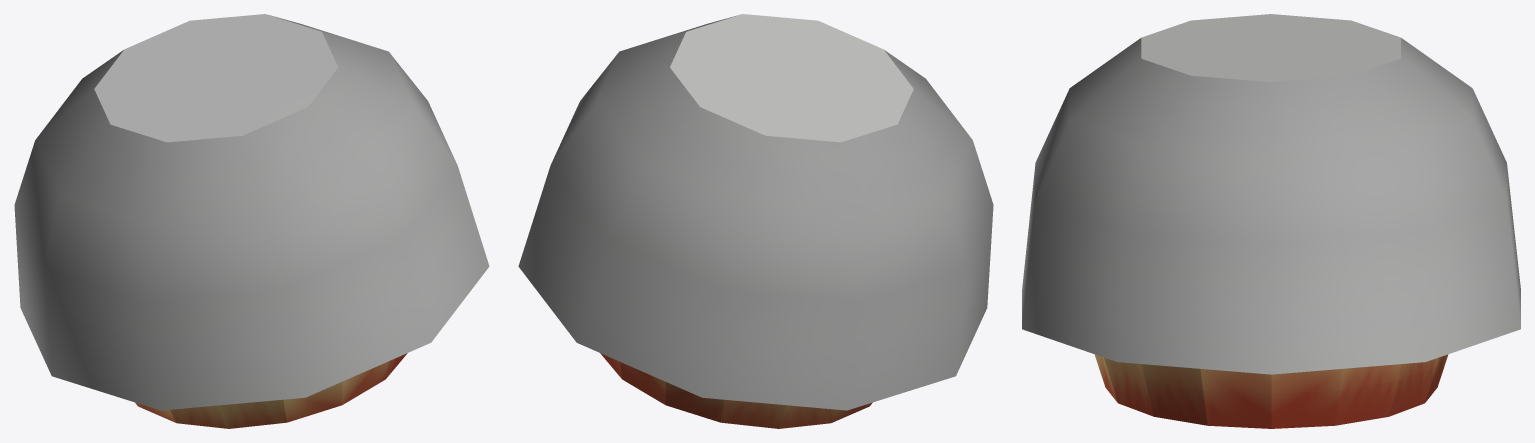
Rendered from H_BowlPudding.fbx.
3 renders of one model, left to right at view 1: azimuth 30°, elevation 25°; view 2: azimuth 150°, elevation 25°; view 3: azimuth 270°, elevation 25°, orthographic. The views are drawn at different scales.
Visible parts, largest first — view 1: BowPudding; view 2: BowPudding; view 3: BowPudding.
Part boxes in pixels (left/top/right/bottom): BowPudding: left=14, top=14, right=489, bottom=428; BowPudding: left=518, top=14, right=993, bottom=428; BowPudding: left=1022, top=14, right=1520, bottom=428.
Size of the model in its own units: 27.54 by 20.95 by 26.14.
